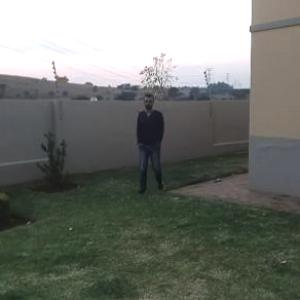follow: (134, 91, 169, 195)
